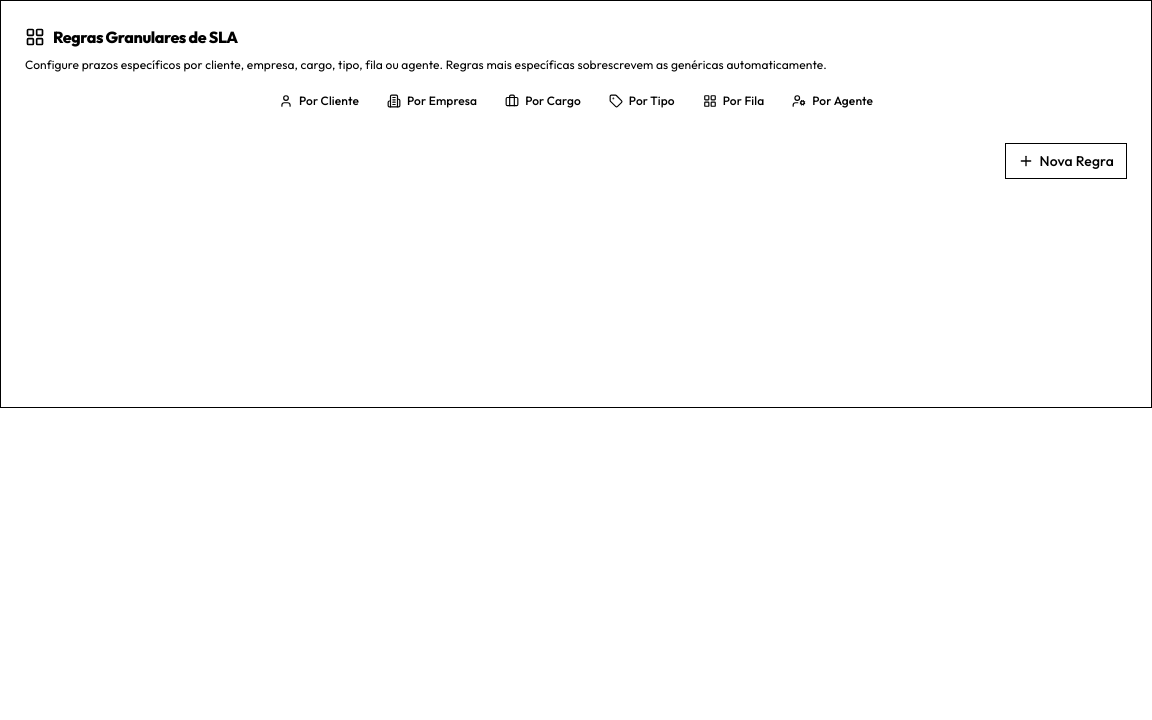
Test: SLARulesManager › opens dialog when "Nova Regra" is clicked
Click the button "Nova Regra": click(1066, 160) top-left (1004, 142), bottom-right (1127, 178)
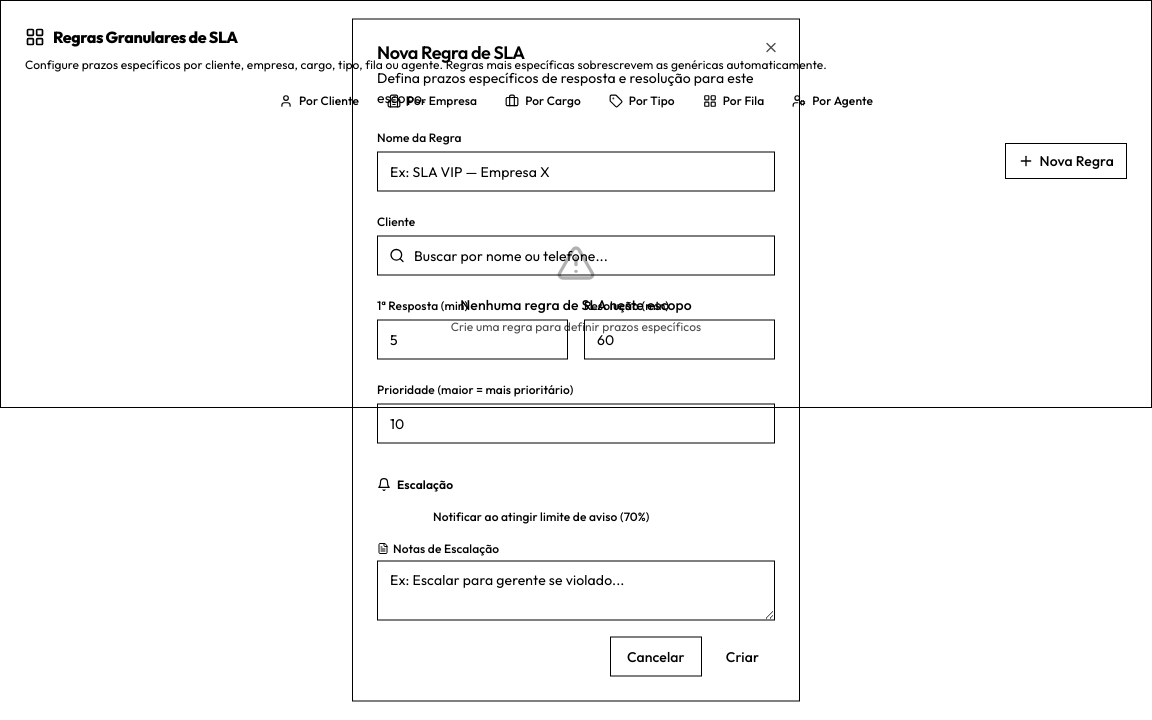
expect the heading "Nova Regra de SLA" is shown: met, box top-left (377, 40), bottom-right (525, 64)
